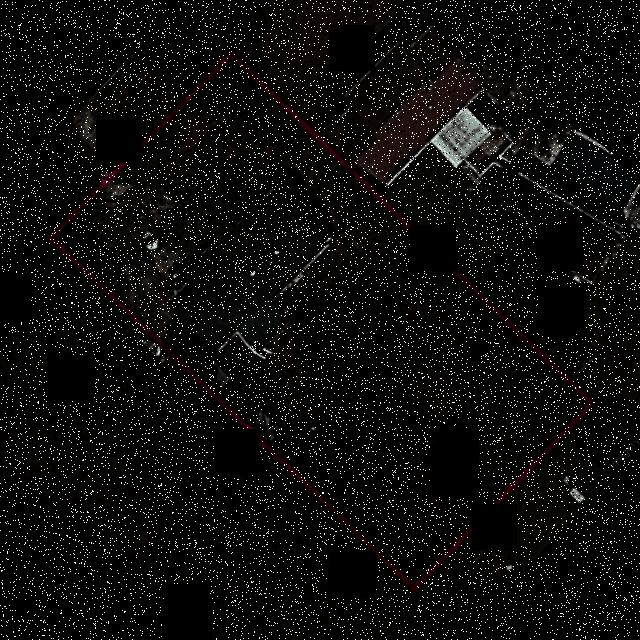House: (158, 184, 331, 357)
